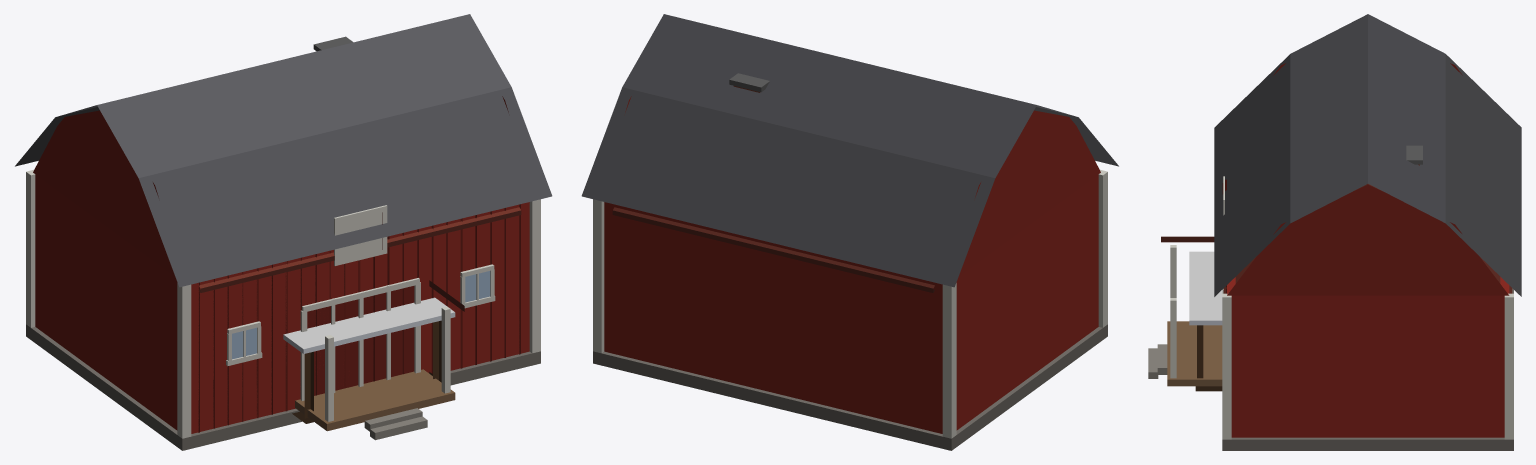
File: buildings.glb
The picture shows the model from 3 angles, left to right: view 1: azimuth 30°, elevation 25°; view 2: azimuth 150°, elevation 25°; view 3: azimuth 270°, elevation 25°; orthographic projection. The views are drawn at different scales.
Parts seen in each view (by area): view 1: Barn, Farmhouse, Cabin, BarnGlow; view 2: Barn, Farmhouse; view 3: Barn, Farmhouse, Cabin.
Boxes of the visible parts, x1,y1,x2,y2 form: Barn: (15,14,552,450); Farmhouse: (199,36,521,440); Cabin: (283,297,455,423); BarnGlow: (232,271,490,359); Barn: (581,14,1118,450); Farmhouse: (612,73,934,292); Barn: (1214,14,1521,450); Farmhouse: (1148,145,1512,386); Cabin: (1189,251,1222,391).
Size of what is drawn, in the model's own units: 12.8 by 9.52 by 11.91.
